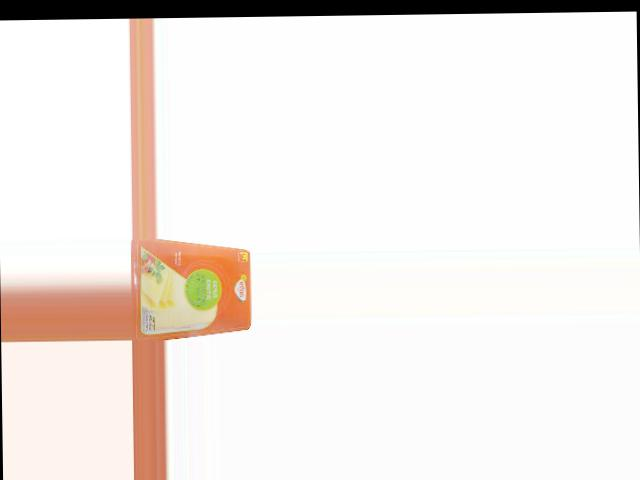cheese: (130, 236, 251, 338)
